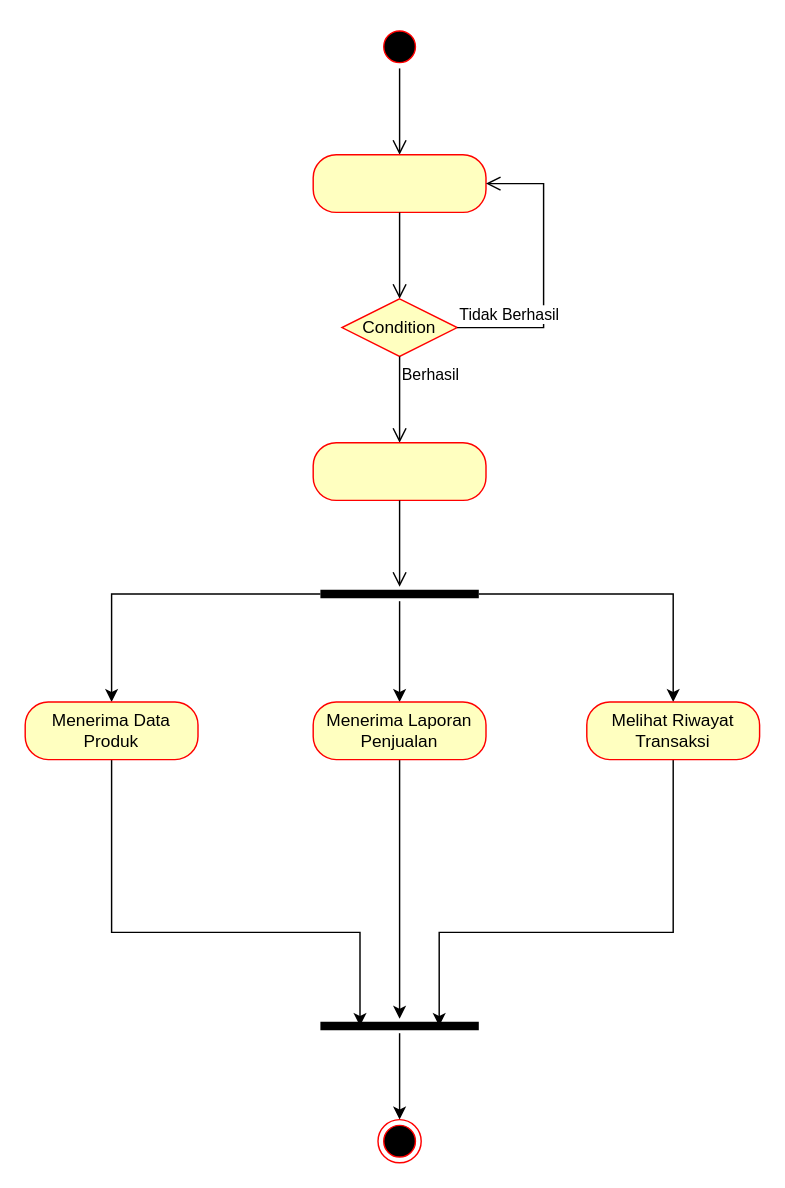
The diagram is 785 pixels wide and 1188 high, and some of its shapes have lost their labels. Each missing label, with the centre of its shape:
"Melakukan Login" belongs at (399,182).
"Menuju Halaman Utama" belongs at (399,470).
